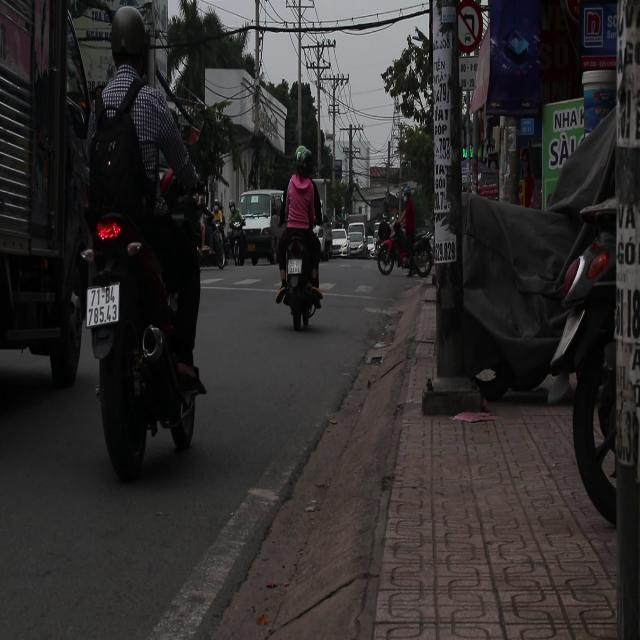car: (345, 224, 366, 257), (329, 228, 350, 258)
motorbike: (98, 202, 198, 466), (280, 228, 324, 342), (201, 217, 228, 270), (220, 217, 247, 269), (374, 224, 401, 276), (409, 226, 435, 279)
truck: (1, 0, 102, 406), (237, 191, 286, 264)
